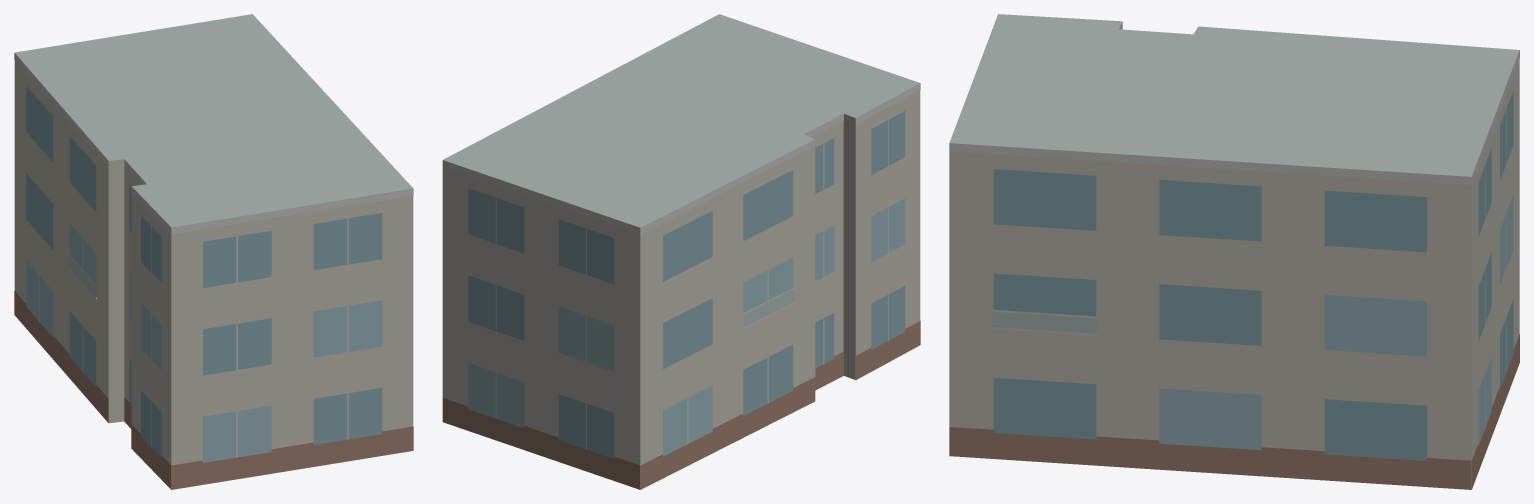
File: survey-upis-32944130.glb
The picture shows the model from 3 angles, left to right: view 1: azimuth 30°, elevation 25°; view 2: azimuth 150°, elevation 25°; view 3: azimuth 270°, elevation 25°; orthographic projection. The views are drawn at different scales.
Parts seen in each view (by area): view 1: survey-upis-32944130.tmp; view 2: survey-upis-32944130.tmp; view 3: survey-upis-32944130.tmp.
Boxes of the visible parts, x1=… form: survey-upis-32944130.tmp: x1=14, y1=14, x2=413, y2=489; survey-upis-32944130.tmp: x1=442, y1=14, x2=920, y2=489; survey-upis-32944130.tmp: x1=949, y1=14, x2=1519, y2=489.
Size of the model in its own units: 10.22 by 9.15 by 15.12.
